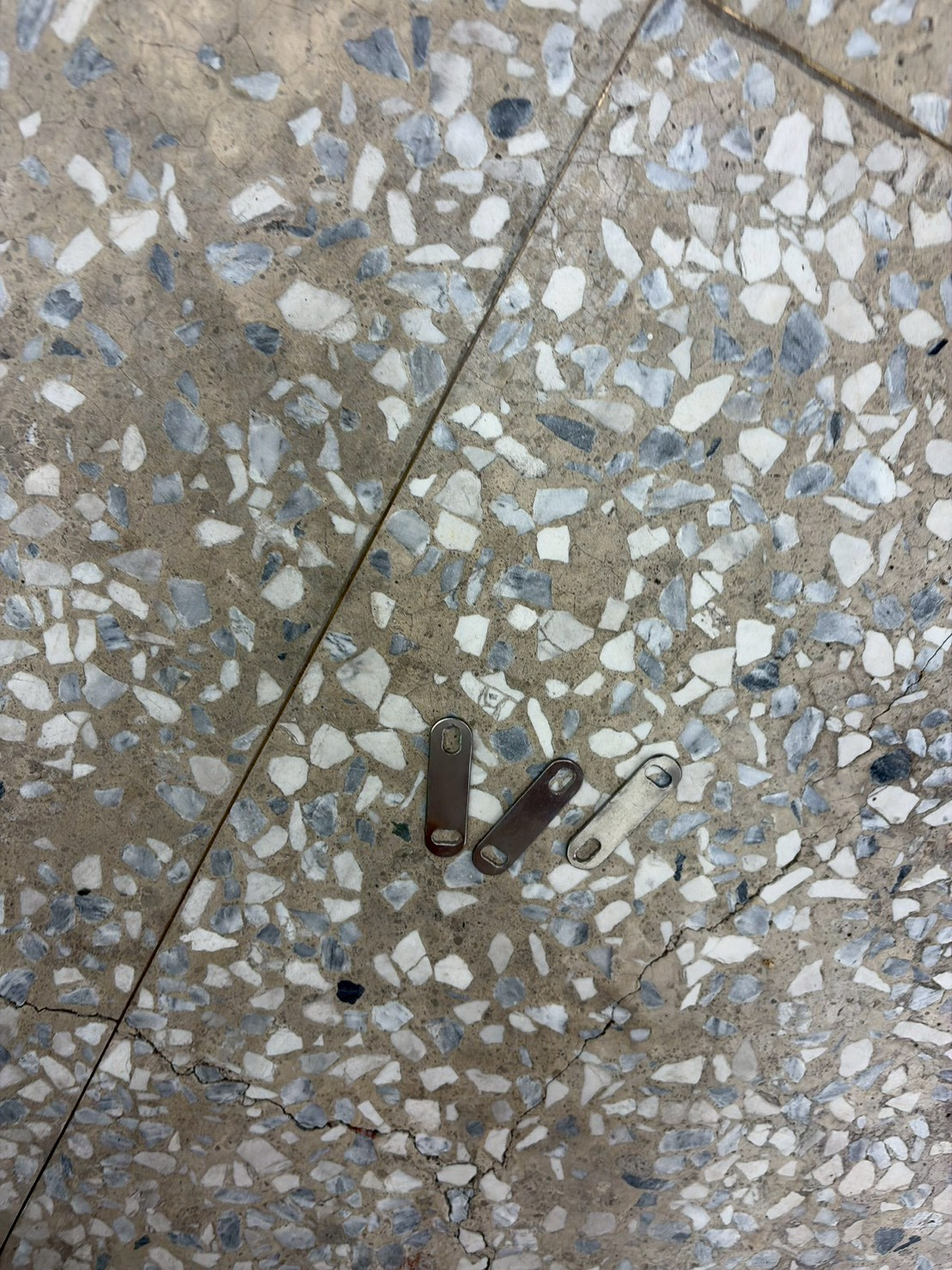Fe: (658, 741, 705, 892), (560, 745, 609, 889), (427, 712, 471, 861)
